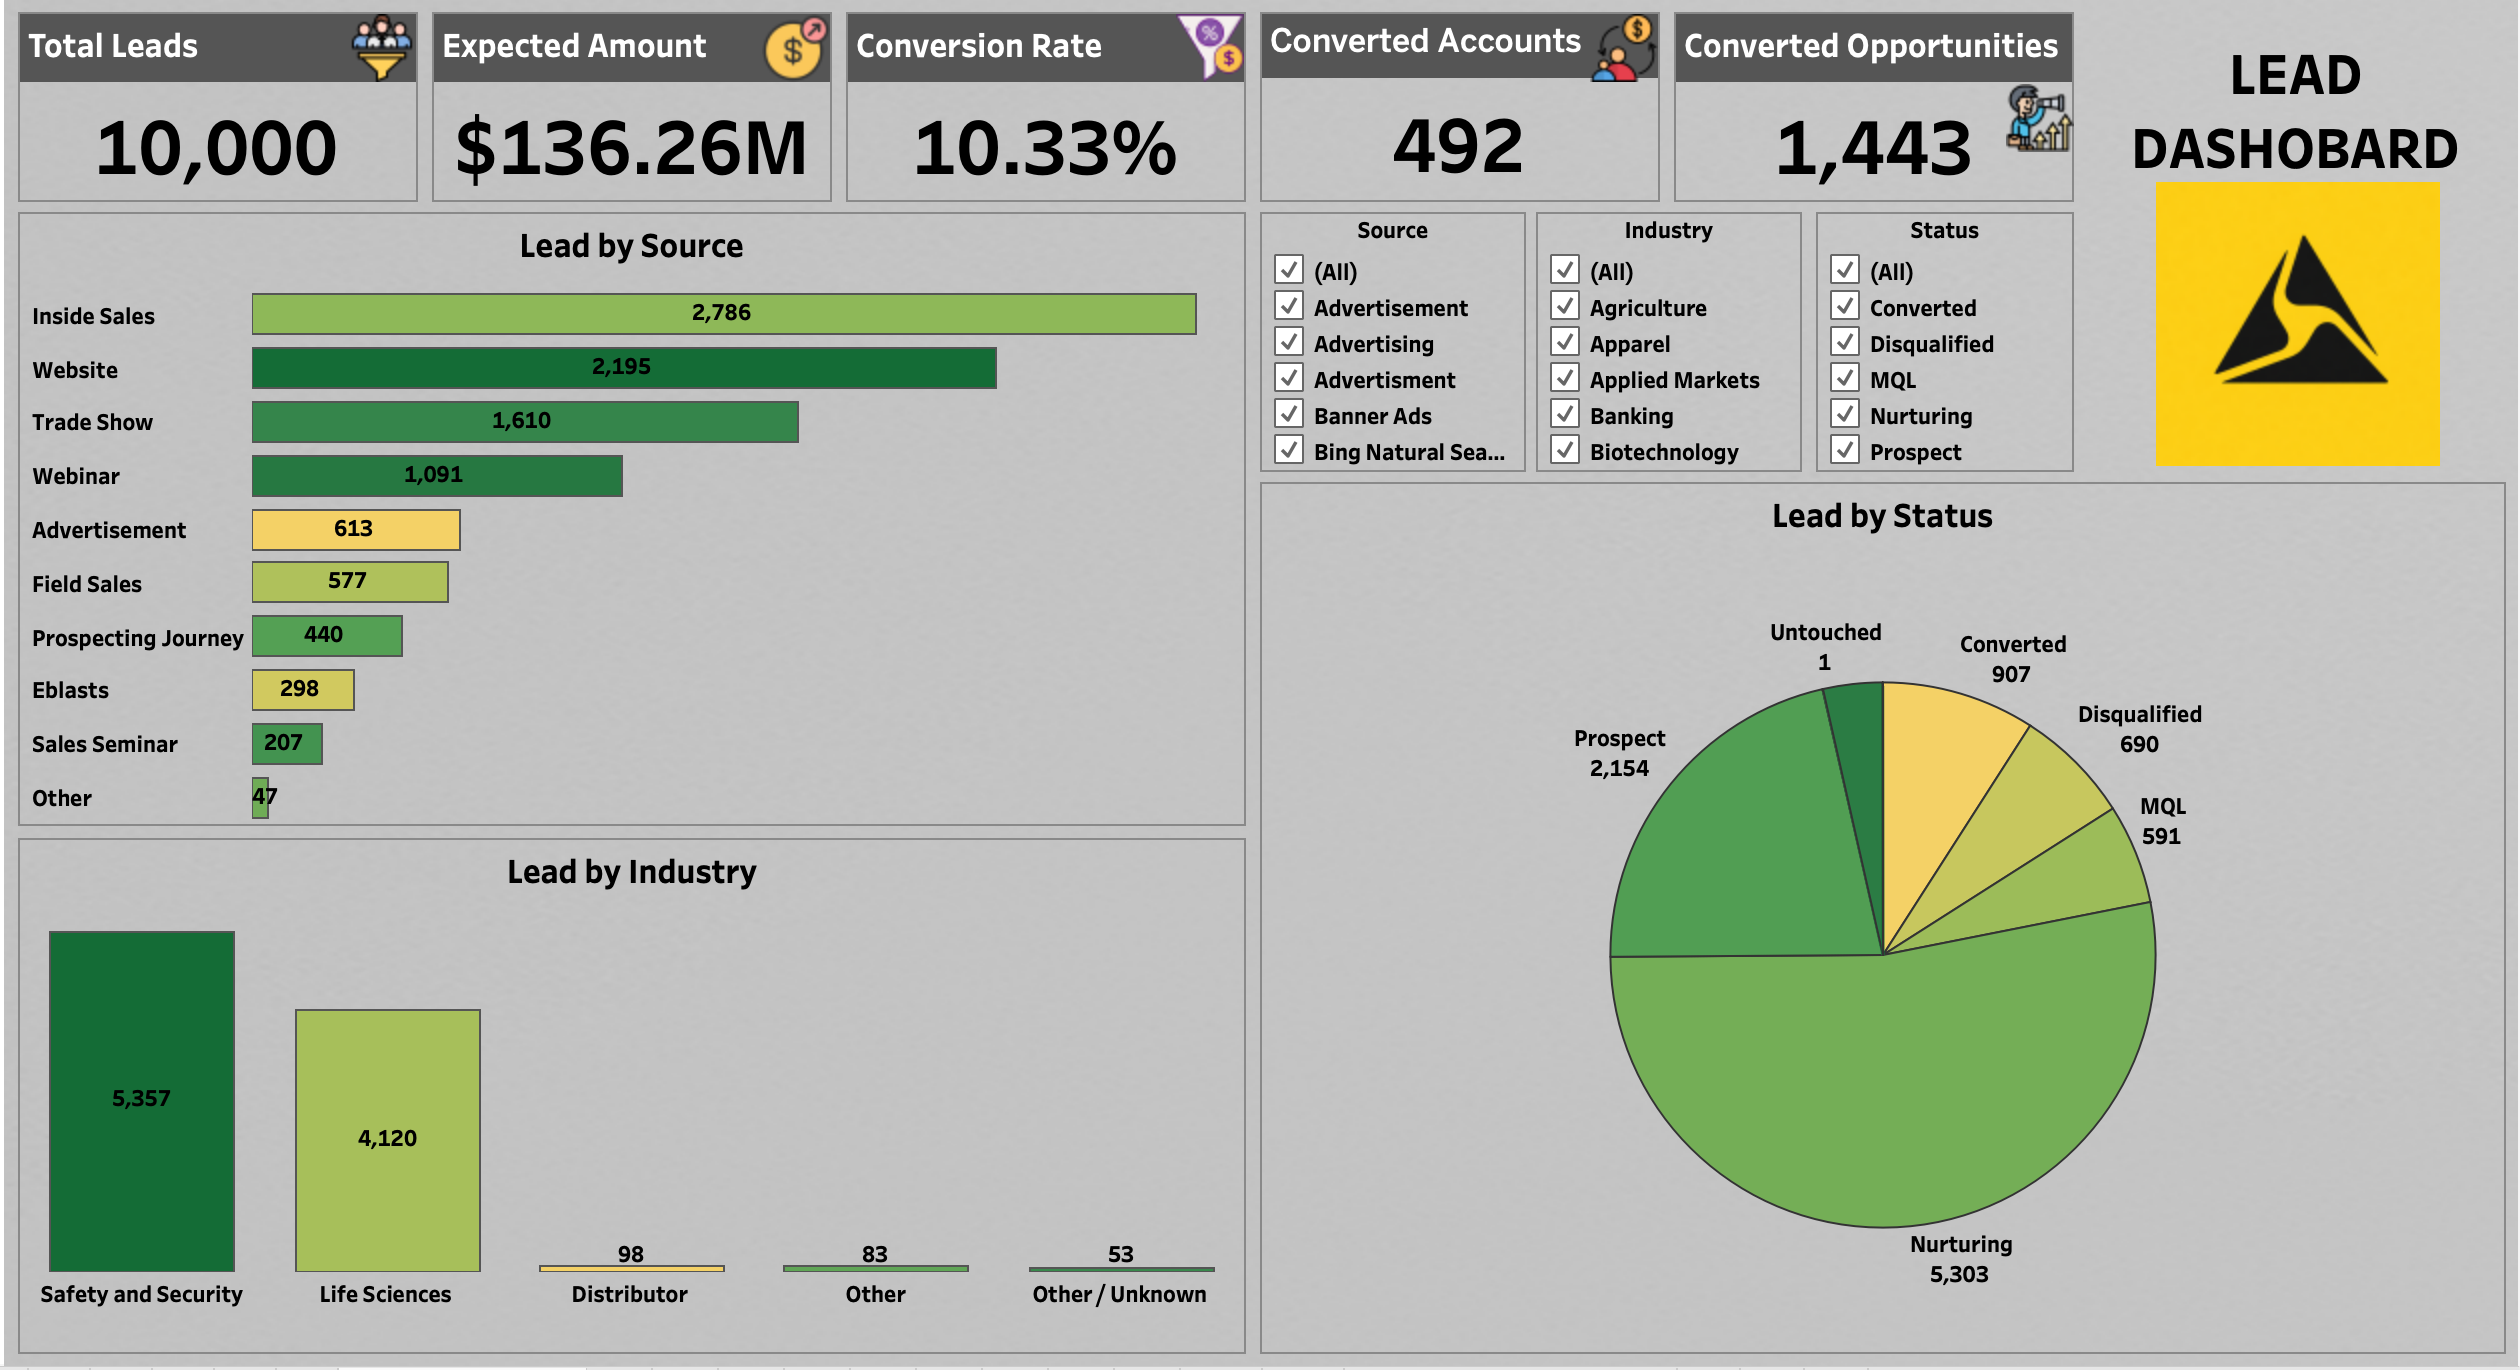

The dashboard page shown, as its layout file describes it:
{"tool":"powerbi","page":{"name":"Lead Dashboard","canvas":[1780,720],"ordinal":0},"visuals":[{"type":"cardVisual","fields":{"Data":["Lead.Total Leads","Opportunity.Expected Amount Lead","Lead.Conversion Rate %","Account.Converted Accounts","Opportunity.Converted Opportunities"]},"box":[397.5,7.4,1382.8,130.1],"z":0},{"type":"donutChart","title":"Lead Generation by Source","fields":{"Category":["Lead.Lead Source"],"Y":["CountNonNull(Lead.Lead ID)"]},"box":[12.3,135,796.3,573],"z":1000},{"type":"clusteredBarChart","title":"Lead Generation by Industry","fields":{"Category":["Lead.Industry"],"Y":["CountNonNull(Lead.Lead ID)"]},"box":[818.4,135,481,573],"z":2000},{"type":"funnel","title":"Lead Conversion Funnel","fields":{"Category":["Lead.Status"],"Y":["CountNonNull(Lead.Lead ID)"]},"box":[1309.7,406.9,455.6,300],"z":3000},{"type":"slicer","fields":{"Values":["Lead.Created Date"]},"box":[1309.7,137.5,227.8,94],"z":4000},{"type":"slicer","fields":{"Values":["Lead.Industry"]},"box":[1544.5,272.2,216.7,128],"z":5000},{"type":"slicer","fields":{"Values":["Lead.Country"]},"box":[1309.7,241.7,227.8,158.3],"z":6000},{"type":"slicer","fields":{"Values":["Lead.Lead Source"]},"box":[1544.5,137.5,216.7,128],"z":7000},{"type":"textbox","box":[1490.3,0,290.3,37.5],"z":8000},{"type":"image","box":[627.8,28.9,44.4,44.4],"z":9000},{"type":"image","box":[1170.1,28.9,44.4,44.4],"z":10000},{"type":"image","box":[899,28.9,44.4,44.4],"z":11000},{"type":"image","box":[1441.3,28.9,44.4,44.4],"z":12000},{"type":"image","box":[1712.5,28.9,44.4,44.4],"z":13000},{"type":"textbox","box":[11.1,19.4,386.1,101.4],"z":14000}]}

Visuals, with their boxes on the page's 1780x720 design canvas (x1, y1, x2, y2). These are canvas units, not pixel positions in the 2520x1370 screenshot, which may show the page scaled, cropped or inside an application window:
cardVisual - Lead.Total Leads x Opportunity.Expected Amount Lead: [x1=398, y1=7, x2=1780, y2=138]
"Lead Generation by Source" donutChart: [x1=12, y1=135, x2=809, y2=708]
"Lead Generation by Industry" clusteredBarChart: [x1=818, y1=135, x2=1299, y2=708]
"Lead Conversion Funnel" funnel: [x1=1310, y1=407, x2=1765, y2=707]
slicer - Lead.Created Date: [x1=1310, y1=138, x2=1538, y2=232]
slicer - Lead.Industry: [x1=1544, y1=272, x2=1761, y2=400]
slicer - Lead.Country: [x1=1310, y1=242, x2=1538, y2=400]
slicer - Lead.Lead Source: [x1=1544, y1=138, x2=1761, y2=266]
textbox: [x1=1490, y1=0, x2=1781, y2=38]
image: [x1=628, y1=29, x2=672, y2=73]
image: [x1=1170, y1=29, x2=1214, y2=73]
image: [x1=899, y1=29, x2=943, y2=73]
image: [x1=1441, y1=29, x2=1486, y2=73]
image: [x1=1712, y1=29, x2=1757, y2=73]
textbox: [x1=11, y1=19, x2=397, y2=121]
